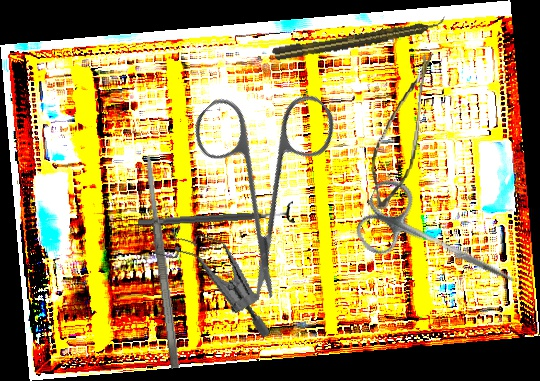Fixation Ring: (137, 199, 295, 235)
Handpiece: (270, 16, 448, 63)
Iris Scissors: (135, 47, 395, 306), (349, 173, 532, 313)
Micro Scissor: (367, 47, 434, 213)
Spatula Surgical: (143, 155, 181, 369)
Speculum: (133, 216, 293, 341)
